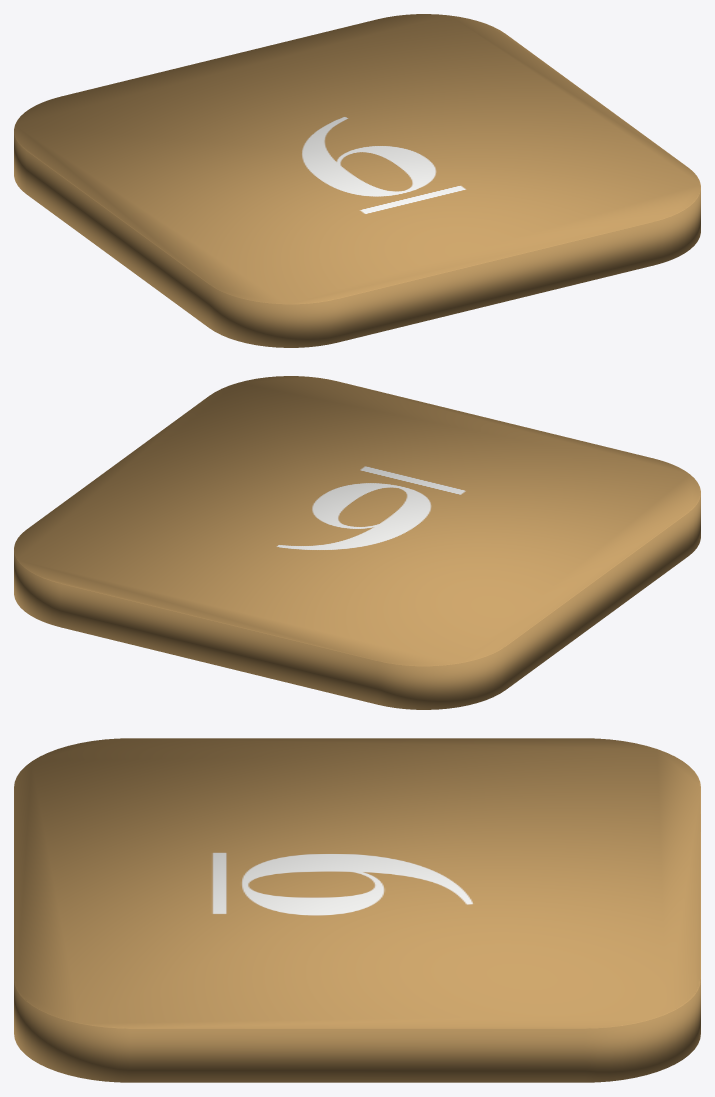
3 renders of one model, top to bottom at view 1: azimuth 30°, elevation 25°; view 2: azimuth 150°, elevation 25°; view 3: azimuth 270°, elevation 25°, orthographic. The views are drawn at different scales.
Parts seen in each view (by area): view 1: sq_6; view 2: sq_6; view 3: sq_6.
Boxes of the visible parts, x1=… form: sq_6: x1=14, y1=14, x2=700, y2=347; sq_6: x1=14, y1=376, x2=700, y2=709; sq_6: x1=14, y1=738, x2=700, y2=1082.
Bounding box in the file's own units: 0.0276 × 0.0024 × 0.0276.
Materials: 2 (1 with a texture image).
